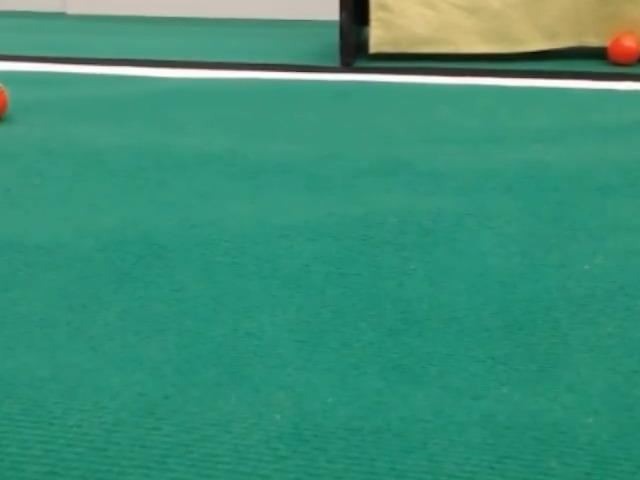Ball: (606, 31, 639, 65), (0, 84, 8, 119)
